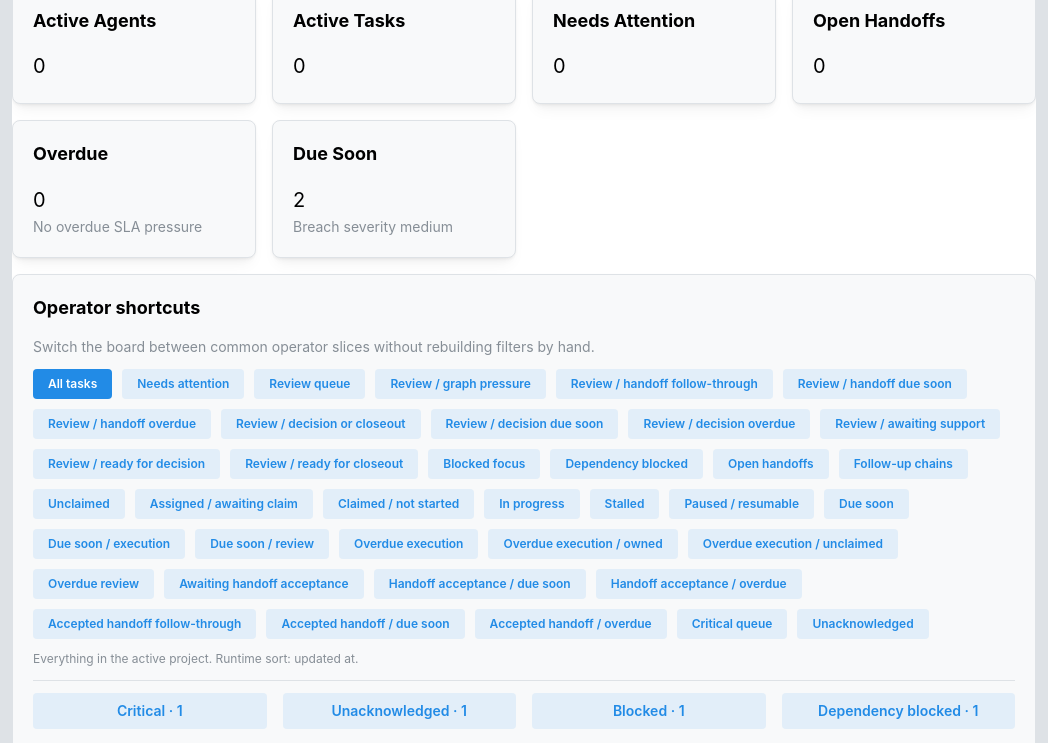
Test: Canopy page › resets ad hoc filters when opening a saved view
(page scrolled)
Click the button "Review queue" at [310, 384], box top-left (254, 369), bottom-right (365, 399)
(page scrolled)
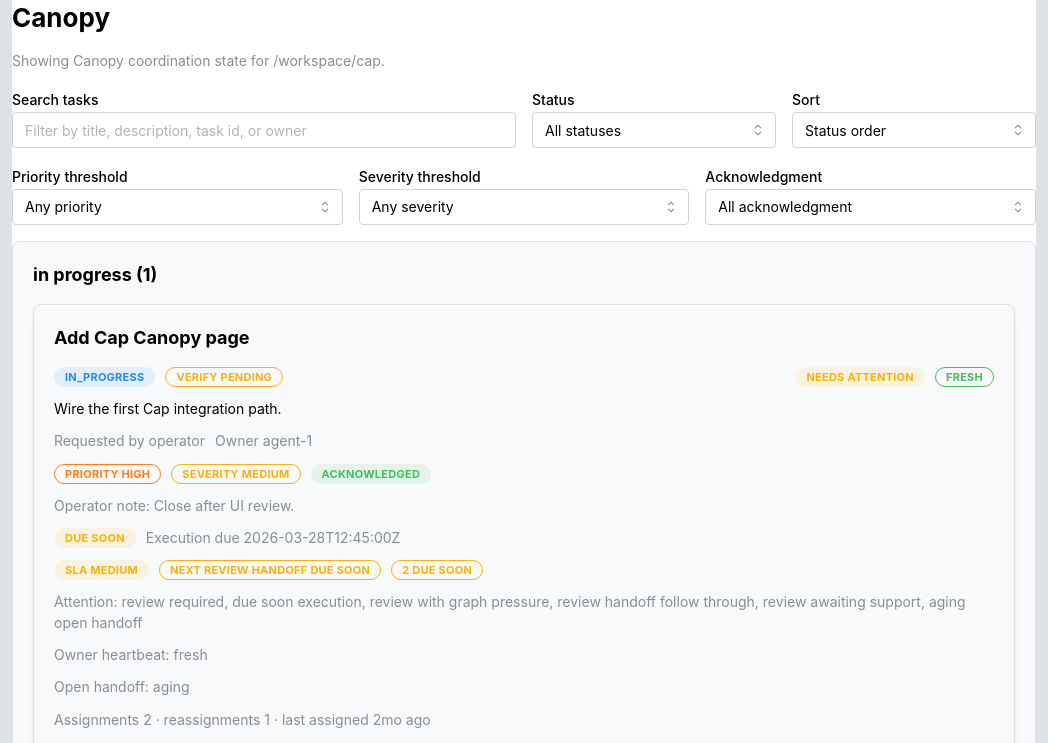
Now the heading "Add Cap Canopy page" is shown, box top-left (54, 327), bottom-right (250, 348)
